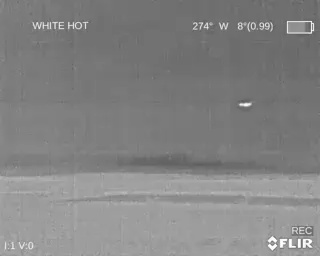AIRPLANE: (236, 99, 255, 110)
